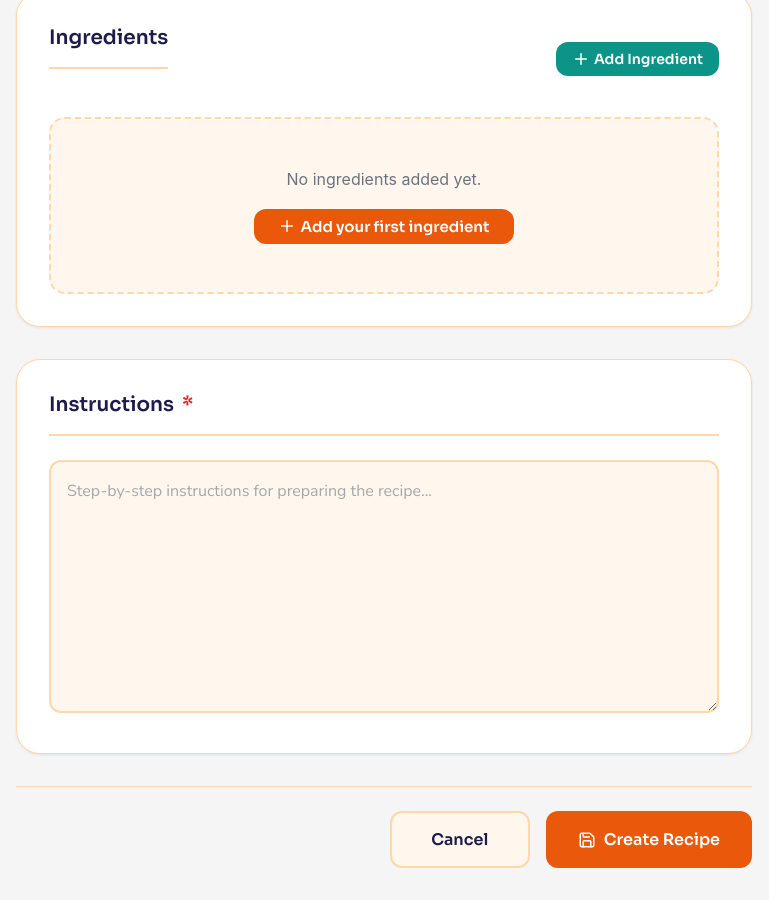
Test: RecipeForm Component › Form Validation › should show error when instructions are empty on submit
(page scrolled)
Click the button "Create Recipe": (649, 840) [546,811,752,868]
(page scrolled)
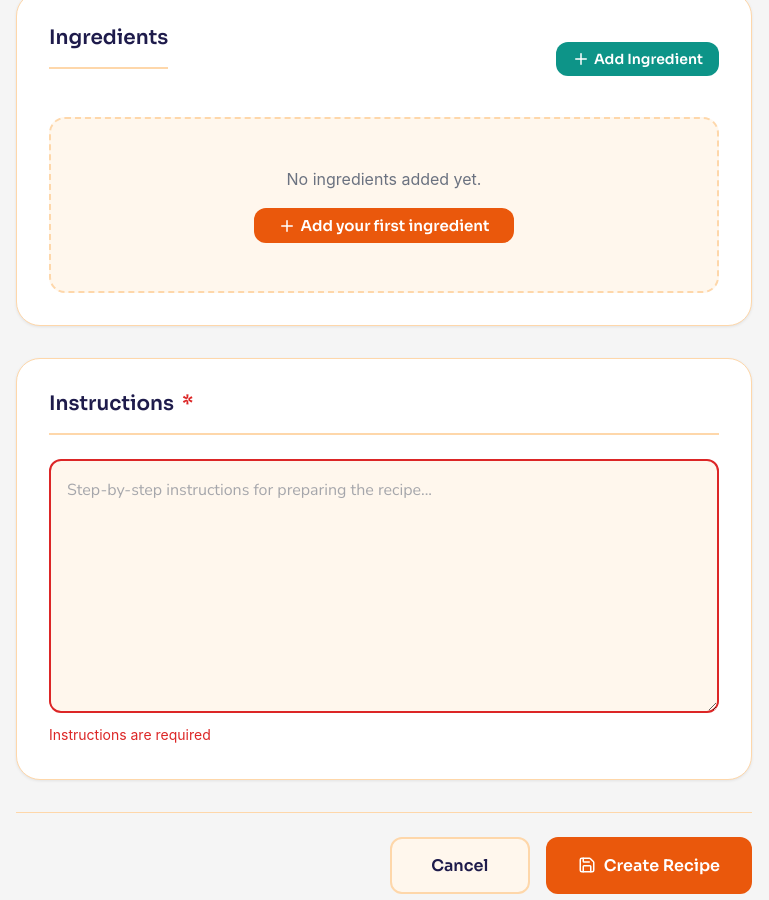
Now the text "Instructions are required" is shown, box [49,726,211,744]
